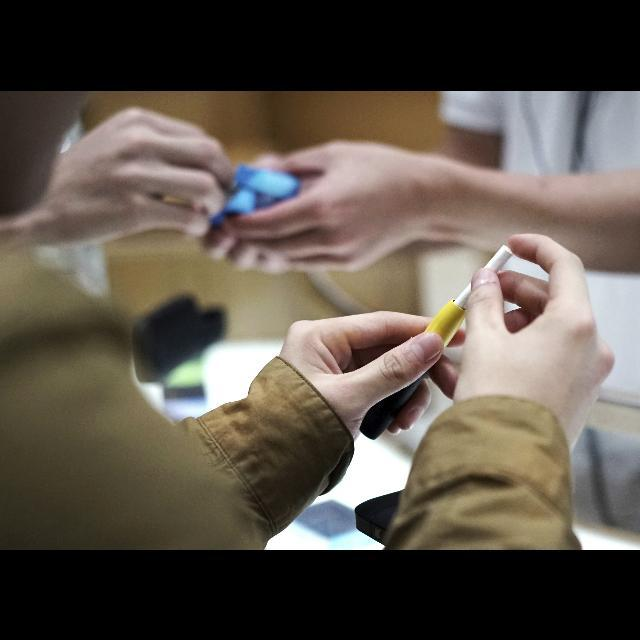rokok: (450, 238, 516, 308)
